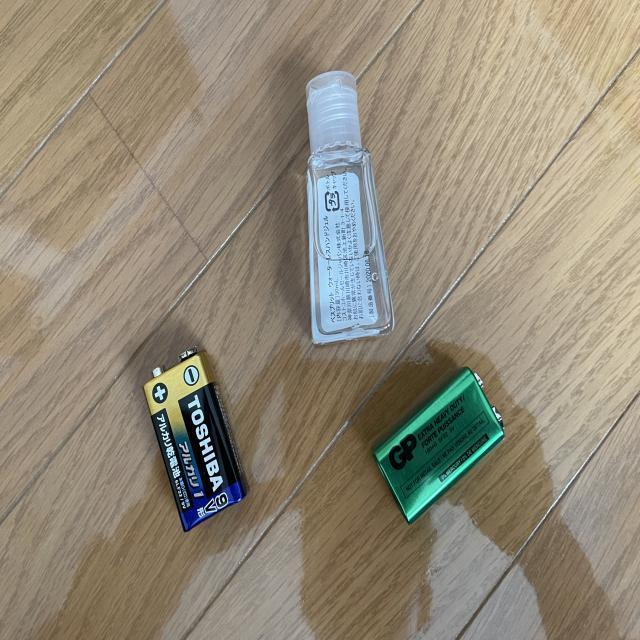9V: (374, 368, 505, 524), (142, 346, 249, 532)
